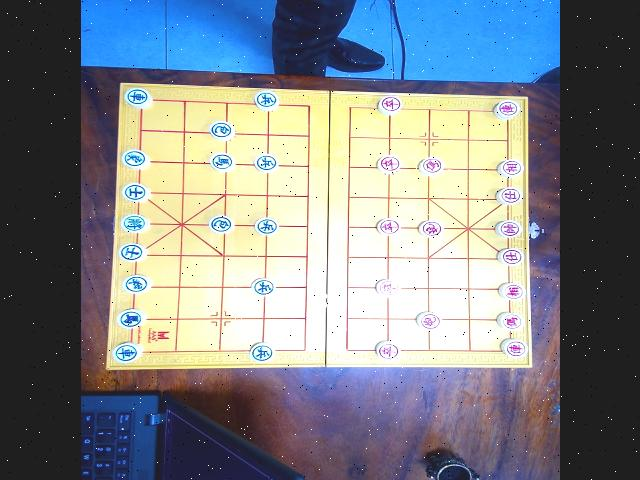piece: (122, 88, 152, 110), (110, 343, 140, 364), (116, 309, 146, 329), (120, 274, 150, 294), (252, 90, 278, 112), (121, 150, 149, 170), (120, 214, 148, 234), (492, 100, 520, 120), (496, 312, 524, 331), (248, 343, 274, 363), (208, 121, 234, 141), (376, 96, 402, 116), (208, 153, 234, 173), (374, 340, 400, 360), (118, 243, 146, 261), (496, 248, 524, 266), (120, 184, 148, 202), (501, 338, 526, 358), (207, 215, 233, 234), (495, 187, 521, 206), (252, 154, 278, 173), (494, 220, 520, 238), (498, 283, 524, 301), (417, 220, 443, 238), (414, 312, 440, 330), (497, 160, 522, 178), (417, 158, 442, 176), (252, 218, 276, 236), (250, 279, 274, 297), (376, 218, 400, 236), (376, 156, 400, 174), (374, 280, 398, 296)
